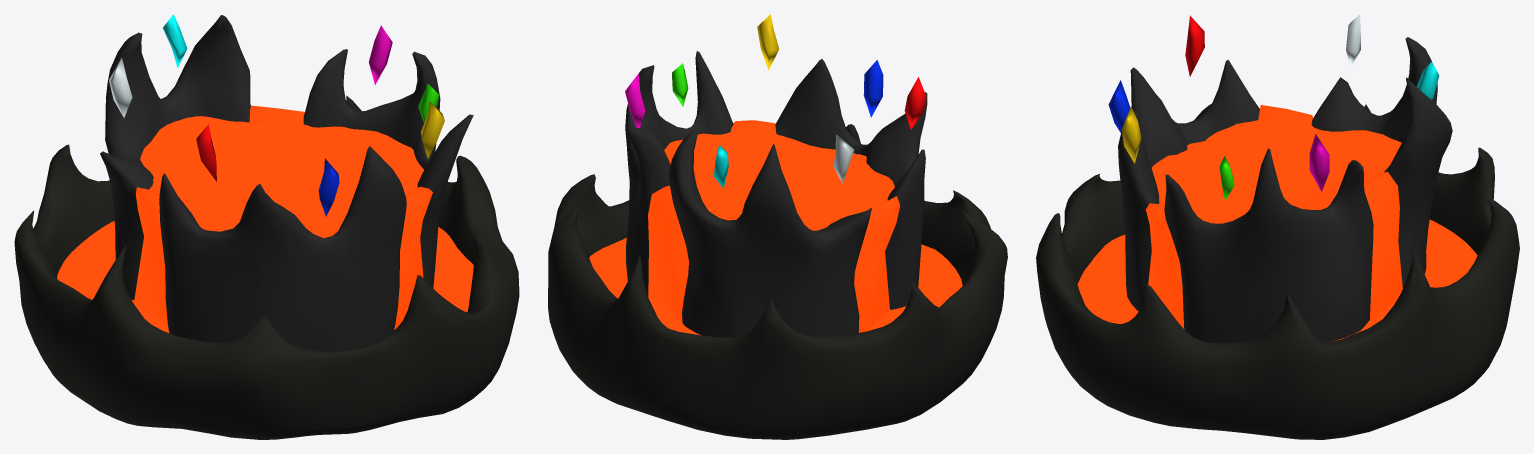
The model's file is lavafountain3.fbx.
3 renders of one model, left to right at view 1: azimuth 30°, elevation 25°; view 2: azimuth 150°, elevation 25°; view 3: azimuth 270°, elevation 25°, orthographic. The views are drawn at different scales.
Visible parts, largest first — view 1: Cylinder.003, Cylinder.001, Plane, Plane.001, Cube.001, Cube.003, Cube.002, Cube, Cube.007, Cube.009, Cube.005, Cube.006 (+1 smaller); view 2: Cylinder.003, Cylinder.001, Plane, Cube.002, Plane.001, Cube.001, Cube.005, Cube.009, Cube.006, Cube, Cube.003, Cube.007 (+2 smaller); view 3: Cylinder.003, Cylinder.001, Plane, Plane.001, Cube.002, Cube.003, Cube.001, Cube, Cube.006, Cube.009, Cube.005, Cube.007 (+1 smaller).
Part boxes in pixels (bbox=[...]): Cylinder.003: bbox=[14, 95, 519, 439]; Cylinder.001: bbox=[100, 15, 473, 351]; Plane: bbox=[140, 116, 423, 238]; Plane.001: bbox=[57, 221, 473, 332]; Cube.001: bbox=[134, 187, 167, 324]; Cube.003: bbox=[394, 186, 432, 329]; Cube.002: bbox=[249, 105, 304, 125]; Cube: bbox=[368, 25, 392, 84]; Cube.007: bbox=[109, 58, 132, 117]; Cube.009: bbox=[420, 101, 444, 158]; Cube.005: bbox=[318, 158, 339, 216]; Cube.006: bbox=[196, 124, 216, 181]; Cylinder.003: bbox=[548, 124, 1007, 439]; Cylinder.001: bbox=[625, 51, 927, 337]; Plane: bbox=[664, 132, 894, 230]; Cube.002: bbox=[648, 185, 688, 320]; Plane.001: bbox=[589, 237, 962, 335]; Cube.001: bbox=[854, 196, 899, 332]; Cube.005: bbox=[863, 60, 883, 117]; Cube.009: bbox=[757, 14, 779, 69]; Cube.006: bbox=[904, 77, 926, 129]; Cube: bbox=[625, 74, 645, 128]; Cube.003: bbox=[730, 120, 776, 135]; Cube.007: bbox=[833, 134, 854, 183]; Cylinder.003: bbox=[1036, 104, 1519, 439]; Cylinder.001: bbox=[1118, 37, 1452, 343]; Plane: bbox=[1151, 120, 1401, 223]; Plane.001: bbox=[1077, 219, 1477, 341]; Cube.002: bbox=[1363, 172, 1402, 320]; Cube.003: bbox=[1146, 203, 1184, 328]; Cube.001: bbox=[1258, 105, 1312, 128]; Cube: bbox=[1309, 134, 1329, 191]; Cube.006: bbox=[1185, 15, 1204, 76]; Cube.009: bbox=[1121, 106, 1141, 163]; Cube.005: bbox=[1108, 80, 1130, 132]; Cube.007: bbox=[1346, 14, 1360, 67].
Size of the model in its own units: 399 by 260 by 396.
